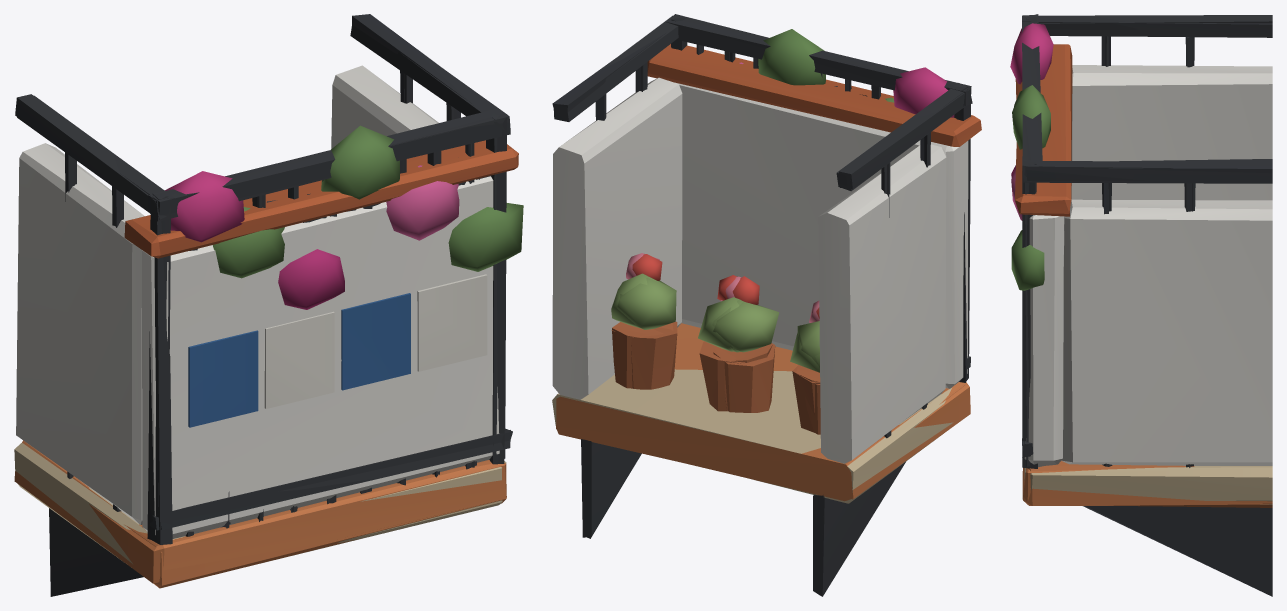
The model's file is balcony.glb.
The picture shows the model from 3 angles, left to right: view 1: azimuth 30°, elevation 25°; view 2: azimuth 150°, elevation 25°; view 3: azimuth 270°, elevation 25°; orthographic projection. The views are drawn at different scales.
Visible parts, largest first — view 1: balcony.v2.mesh, balcony.v1.mesh, balcony.v0.mesh; view 2: balcony.v2.mesh, balcony.v0.mesh, balcony.v1.mesh; view 3: balcony.v2.mesh, balcony.v1.mesh, balcony.v0.mesh.
Boxes of the visible parts, left/top/right/bottom form: balcony.v2.mesh: left=14, top=65, right=518, bottom=596; balcony.v1.mesh: left=14, top=14, right=523, bottom=584; balcony.v0.mesh: left=17, top=25, right=512, bottom=588; balcony.v2.mesh: left=552, top=44, right=981, bottom=596; balcony.v0.mesh: left=553, top=15, right=971, bottom=596; balcony.v1.mesh: left=552, top=14, right=972, bottom=586; balcony.v2.mesh: left=1015, top=44, right=1272, bottom=507; balcony.v1.mesh: left=1010, top=14, right=1272, bottom=596; balcony.v0.mesh: left=1022, top=15, right=1272, bottom=593.
Bounding box in the file's own units: 0.9966 × 1.33 × 0.677.
